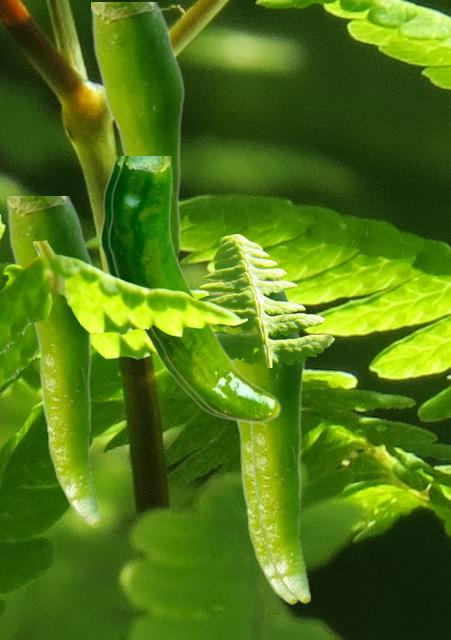green_chili: (108, 156, 280, 422), (100, 156, 245, 422), (7, 196, 99, 526), (219, 279, 309, 602), (212, 293, 296, 603), (91, 2, 187, 266)
